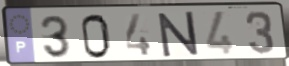0: (79, 12, 113, 60)
3: (244, 9, 277, 57), (40, 14, 71, 60)
4: (204, 9, 237, 58), (124, 12, 153, 58)
N: (156, 10, 201, 60)
